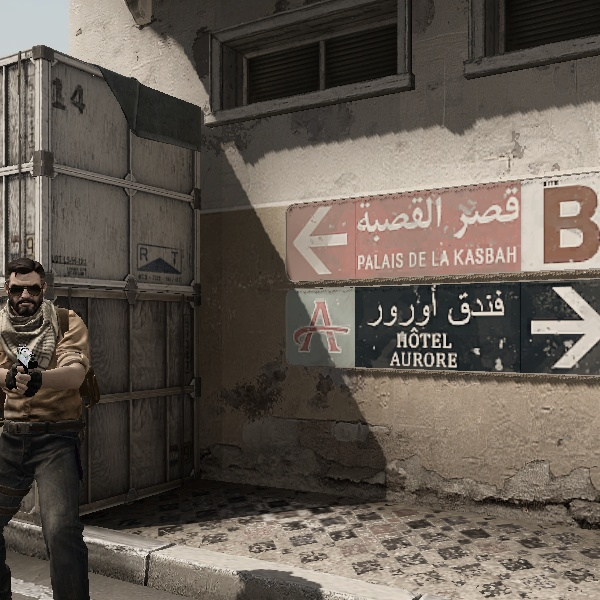t_body: (1, 248, 96, 597)
t_head: (1, 253, 60, 319)
